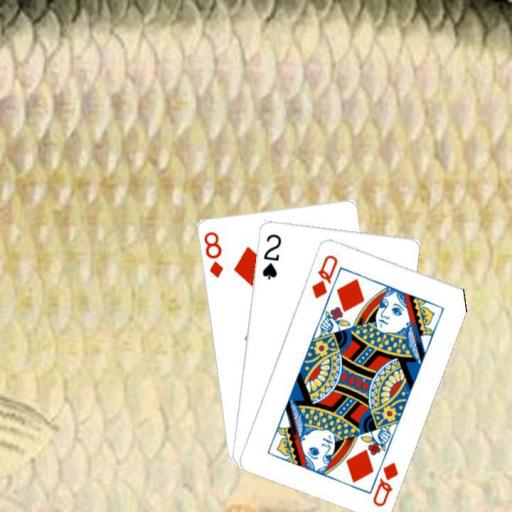2S: (258, 230, 282, 281)
8D: (201, 229, 224, 280)
QD: (369, 458, 400, 508), (308, 251, 339, 300)
